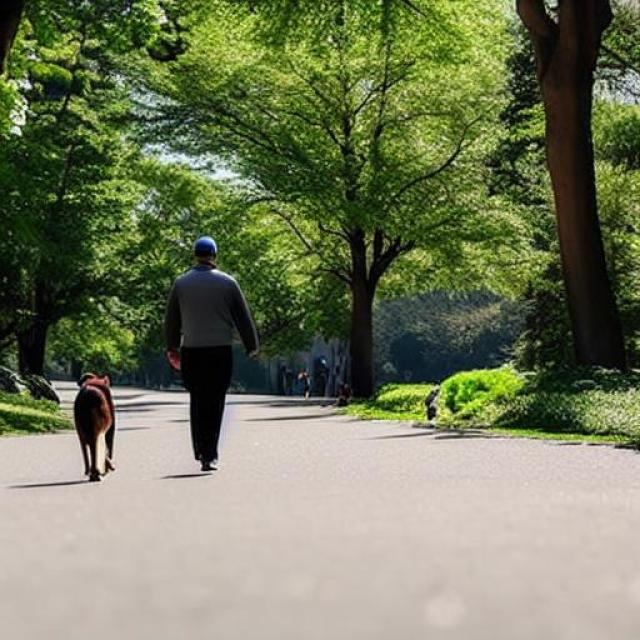Unleashed_Dog: (74, 375, 235, 482)
